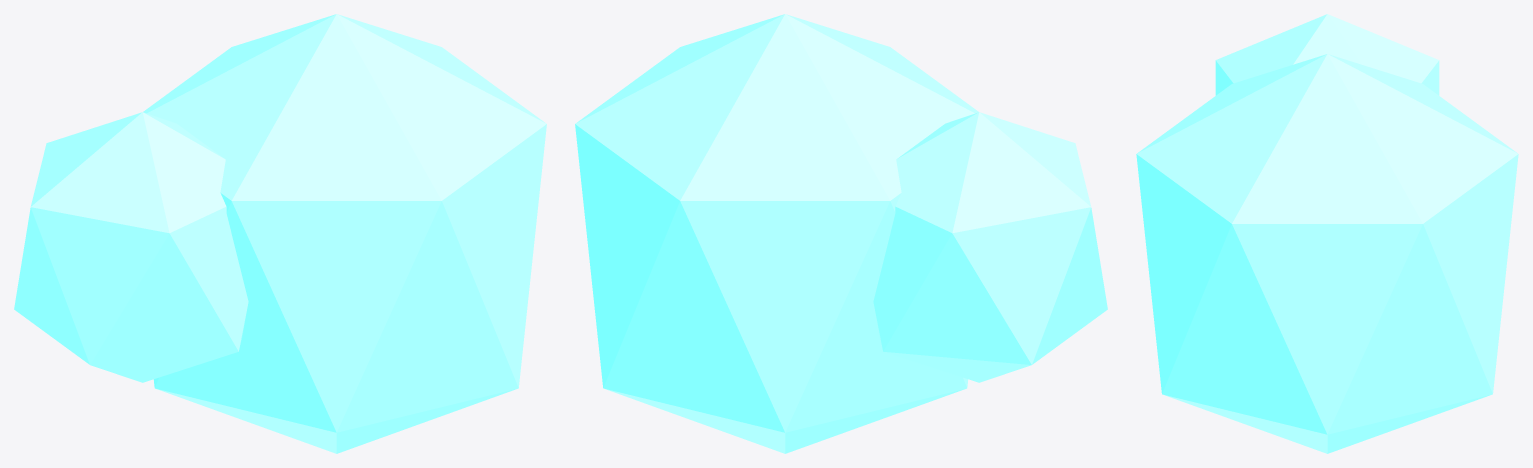
File: droplet.glb
3 renders of one model, left to right at view 1: azimuth 30°, elevation 25°; view 2: azimuth 150°, elevation 25°; view 3: azimuth 270°, elevation 25°, orthographic. The views are drawn at different scales.
Parts seen in each view (by area): view 1: droplet; view 2: droplet; view 3: droplet.
Boxes of the visible parts, x1=… form: droplet: x1=14, y1=14, x2=546, y2=453; droplet: x1=575, y1=14, x2=1107, y2=453; droplet: x1=1136, y1=14, x2=1518, y2=453.
Size of the model in its own units: 0.3019 by 0.26 by 0.2252.
